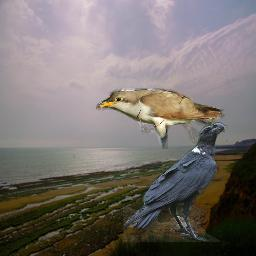Crow: (123, 121, 228, 242)
Cuckoo: (96, 88, 225, 149)
